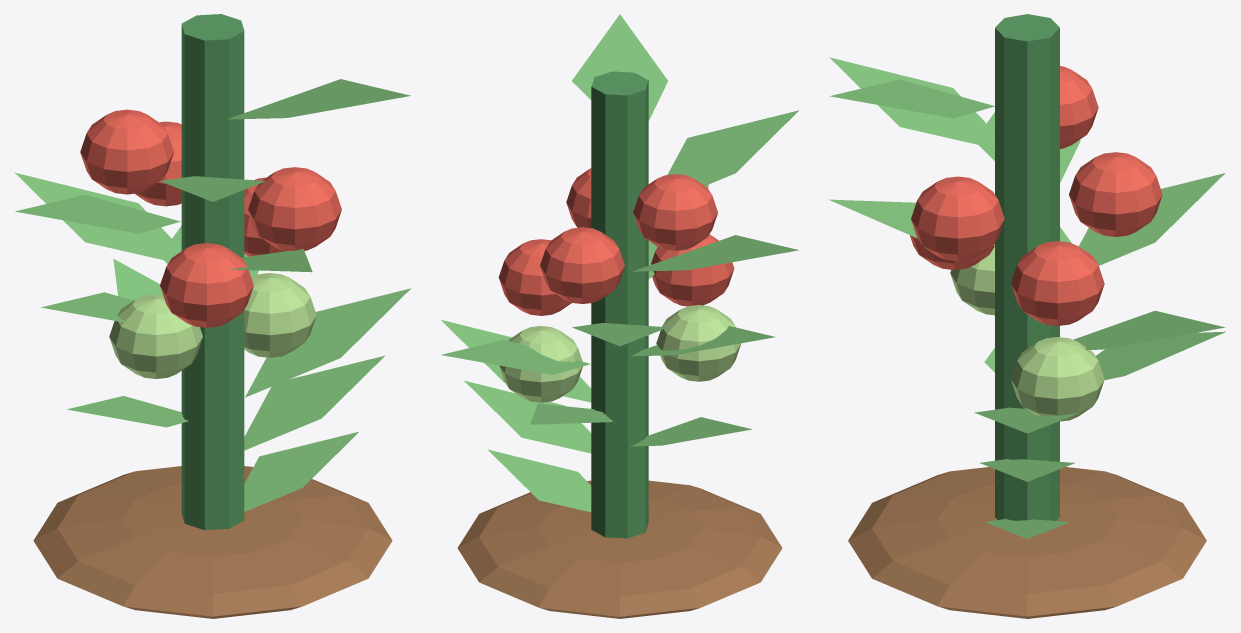
Rendered from Tomato.glb.
3 views of the same model, side by side, from view 1: azimuth 30°, elevation 25°; view 2: azimuth 150°, elevation 25°; view 3: azimuth 270°, elevation 25° (orthographic). The views are drawn at different scales.
Visible parts, largest first — view 1: SM_FTF_Plant_Tomato_S03_Soil, SM_FTF_Plant_Tomato_S03_Stem, SM_FTF_Plant_Tomato_S03_Fruit_02, SM_FTF_Plant_Tomato_S03_Fruit_03, SM_FTF_Plant_Tomato_S03_Fruit_04, SM_FTF_Plant_Tomato_S02_Fruit_01, SM_FTF_Plant_Tomato_S03_Leaf_00, SM_FTF_Plant_Tomato_S02_Leaf_00, SM_FTF_Plant_Tomato_S02_Fruit_00, SM_FTF_Plant_Tomato_S01_Leaf_00, SM_FTF_Plant_Tomato_S03_Leaf_02, SM_FTF_Plant_Tomato_S03_Leaf_05 (+8 smaller); view 2: SM_FTF_Plant_Tomato_S03_Soil, SM_FTF_Plant_Tomato_S03_Stem, SM_FTF_Plant_Tomato_S03_Fruit_01, SM_FTF_Plant_Tomato_S03_Fruit_02, SM_FTF_Plant_Tomato_S02_Fruit_01, SM_FTF_Plant_Tomato_S03_Leaf_04, SM_FTF_Plant_Tomato_S02_Fruit_00, SM_FTF_Plant_Tomato_S03_Leaf_05, SM_FTF_Plant_Tomato_S03_Fruit_00, SM_FTF_Plant_Tomato_S02_Leaf_00, SM_FTF_Plant_Tomato_S03_Fruit_03, SM_FTF_Plant_Tomato_S01_Leaf_00 (+8 smaller); view 3: SM_FTF_Plant_Tomato_S03_Soil, SM_FTF_Plant_Tomato_S03_Stem, SM_FTF_Plant_Tomato_S03_Fruit_04, SM_FTF_Plant_Tomato_S03_Fruit_00, SM_FTF_Plant_Tomato_S03_Fruit_01, SM_FTF_Plant_Tomato_S02_Fruit_00, SM_FTF_Plant_Tomato_S03_Leaf_04, SM_FTF_Plant_Tomato_S03_Leaf_02, SM_FTF_Plant_Tomato_S03_Leaf_05, SM_FTF_Plant_Tomato_S03_Leaf_01, SM_FTF_Plant_Tomato_S02_Leaf_01, SM_FTF_Plant_Tomato_S03_Fruit_02 (+7 smaller).
Part boxes in pixels (box(x1,y1,x2,y2)): SM_FTF_Plant_Tomato_S03_Soil: box(33, 466, 392, 618); SM_FTF_Plant_Tomato_S03_Stem: box(181, 14, 244, 530); SM_FTF_Plant_Tomato_S03_Fruit_02: box(80, 109, 173, 194); SM_FTF_Plant_Tomato_S03_Fruit_03: box(160, 243, 253, 327); SM_FTF_Plant_Tomato_S03_Fruit_04: box(248, 167, 341, 250); SM_FTF_Plant_Tomato_S02_Fruit_01: box(109, 294, 202, 378); SM_FTF_Plant_Tomato_S03_Leaf_00: box(245, 288, 410, 397); SM_FTF_Plant_Tomato_S02_Leaf_00: box(244, 355, 384, 450); SM_FTF_Plant_Tomato_S02_Fruit_00: box(244, 273, 316, 357); SM_FTF_Plant_Tomato_S01_Leaf_00: box(244, 432, 358, 511); SM_FTF_Plant_Tomato_S03_Leaf_02: box(15, 172, 181, 261); SM_FTF_Plant_Tomato_S03_Leaf_05: box(226, 79, 410, 119); SM_FTF_Plant_Tomato_S03_Soil: box(457, 480, 782, 618); SM_FTF_Plant_Tomato_S03_Stem: box(591, 71, 648, 538); SM_FTF_Plant_Tomato_S03_Fruit_01: box(540, 227, 624, 303); SM_FTF_Plant_Tomato_S03_Fruit_02: box(633, 174, 717, 250); SM_FTF_Plant_Tomato_S02_Fruit_01: box(656, 305, 741, 381); SM_FTF_Plant_Tomato_S03_Leaf_04: box(667, 110, 798, 185); SM_FTF_Plant_Tomato_S02_Fruit_00: box(499, 326, 582, 402); SM_FTF_Plant_Tomato_S03_Leaf_05: box(572, 14, 667, 120); SM_FTF_Plant_Tomato_S03_Fruit_00: box(498, 239, 571, 315); SM_FTF_Plant_Tomato_S02_Leaf_00: box(464, 380, 591, 453); SM_FTF_Plant_Tomato_S03_Fruit_03: box(651, 234, 734, 306); SM_FTF_Plant_Tomato_S01_Leaf_00: box(487, 449, 591, 512); SM_FTF_Plant_Tomato_S03_Soil: box(848, 467, 1206, 618); SM_FTF_Plant_Tomato_S03_Stem: box(995, 14, 1059, 520); SM_FTF_Plant_Tomato_S03_Fruit_04: box(911, 176, 1004, 261); SM_FTF_Plant_Tomato_S03_Fruit_00: box(1011, 241, 1104, 325); SM_FTF_Plant_Tomato_S03_Fruit_01: box(1069, 152, 1162, 236); SM_FTF_Plant_Tomato_S02_Fruit_00: box(1011, 337, 1104, 421); SM_FTF_Plant_Tomato_S03_Leaf_04: box(829, 57, 994, 148); SM_FTF_Plant_Tomato_S03_Leaf_02: box(1079, 173, 1225, 265); SM_FTF_Plant_Tomato_S03_Leaf_05: box(829, 79, 994, 118); SM_FTF_Plant_Tomato_S03_Leaf_01: box(1073, 310, 1225, 349); SM_FTF_Plant_Tomato_S02_Leaf_01: box(1096, 331, 1225, 380); SM_FTF_Plant_Tomato_S03_Fruit_02: box(1060, 66, 1098, 148).
Size of what is drawn, in the model's own units: 0.8294 by 1.07 by 0.7214.
